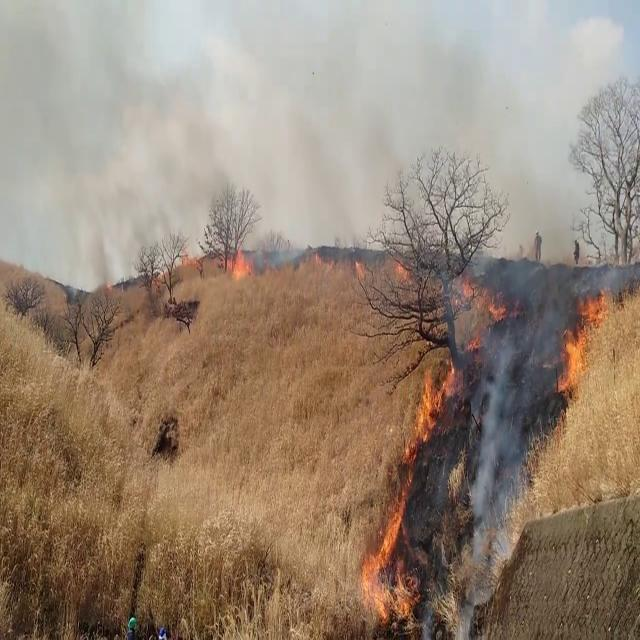Fire: (358, 357, 466, 623), (551, 302, 605, 398), (408, 360, 456, 450), (224, 242, 254, 280)
Smoke: (0, 3, 422, 268), (462, 252, 564, 578)
